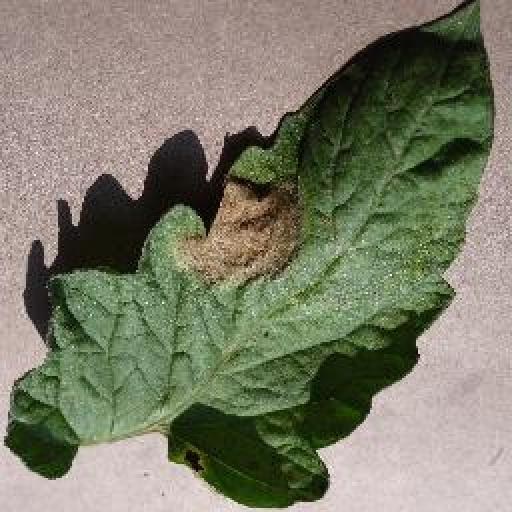Late Blight: (0, 0, 496, 508)
